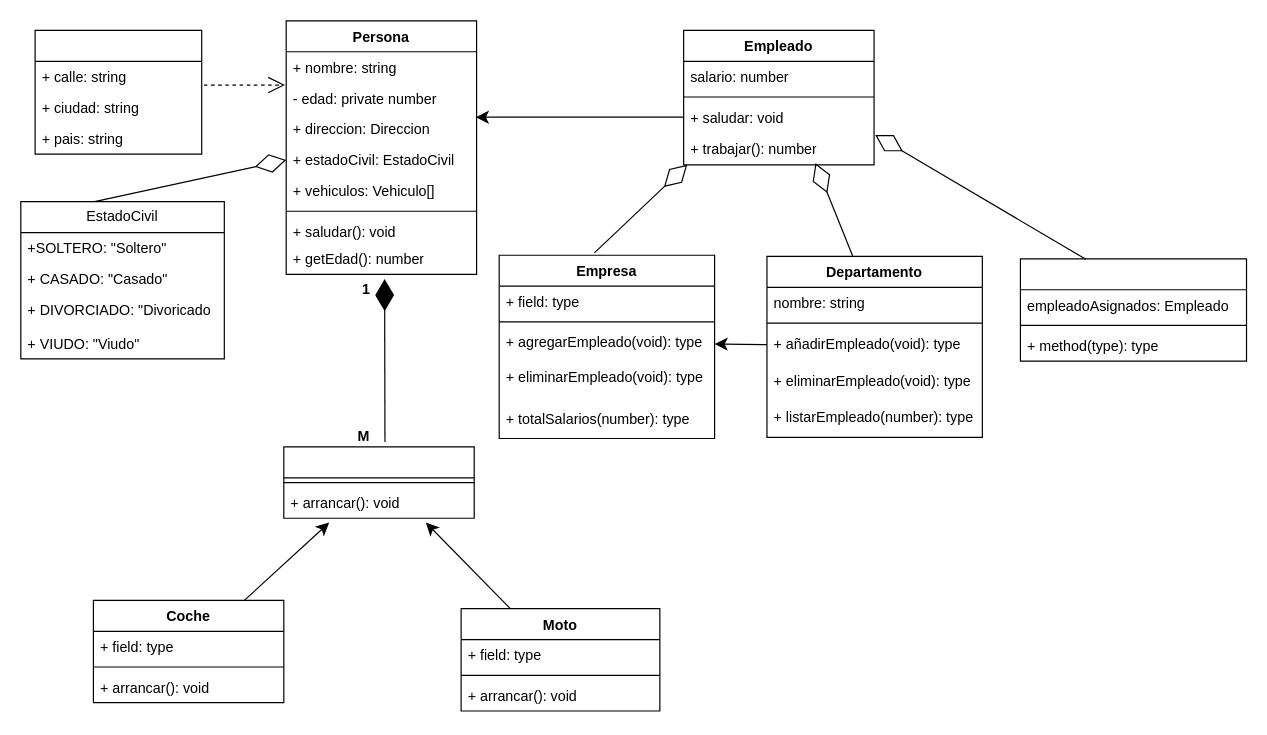
The diagram is 1267 pixels wide and 735 high, and some of its shapes have lost their labels. Each missing label, with the box of its shape:
Direccion: (34, 29, 202, 154)
Proyecto: (1019, 258, 1247, 361)
Vehiculo: (283, 446, 474, 518)
